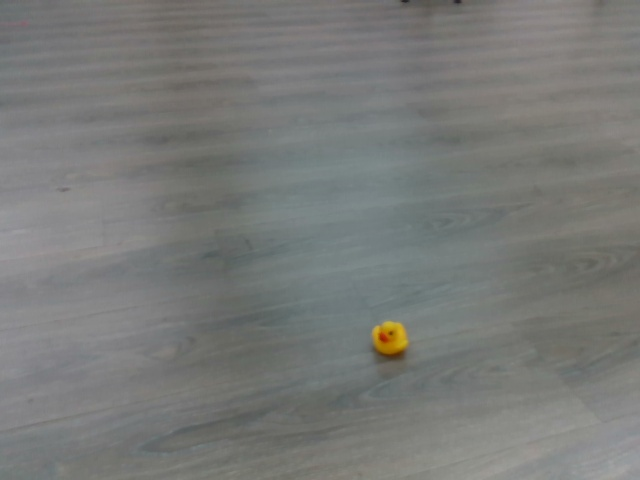duck: (370, 320, 410, 357)
